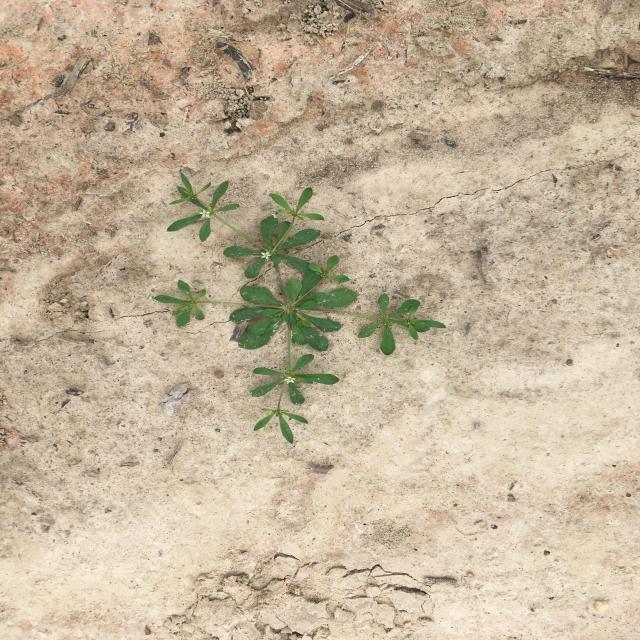Carpetweed: (154, 172, 446, 445)
